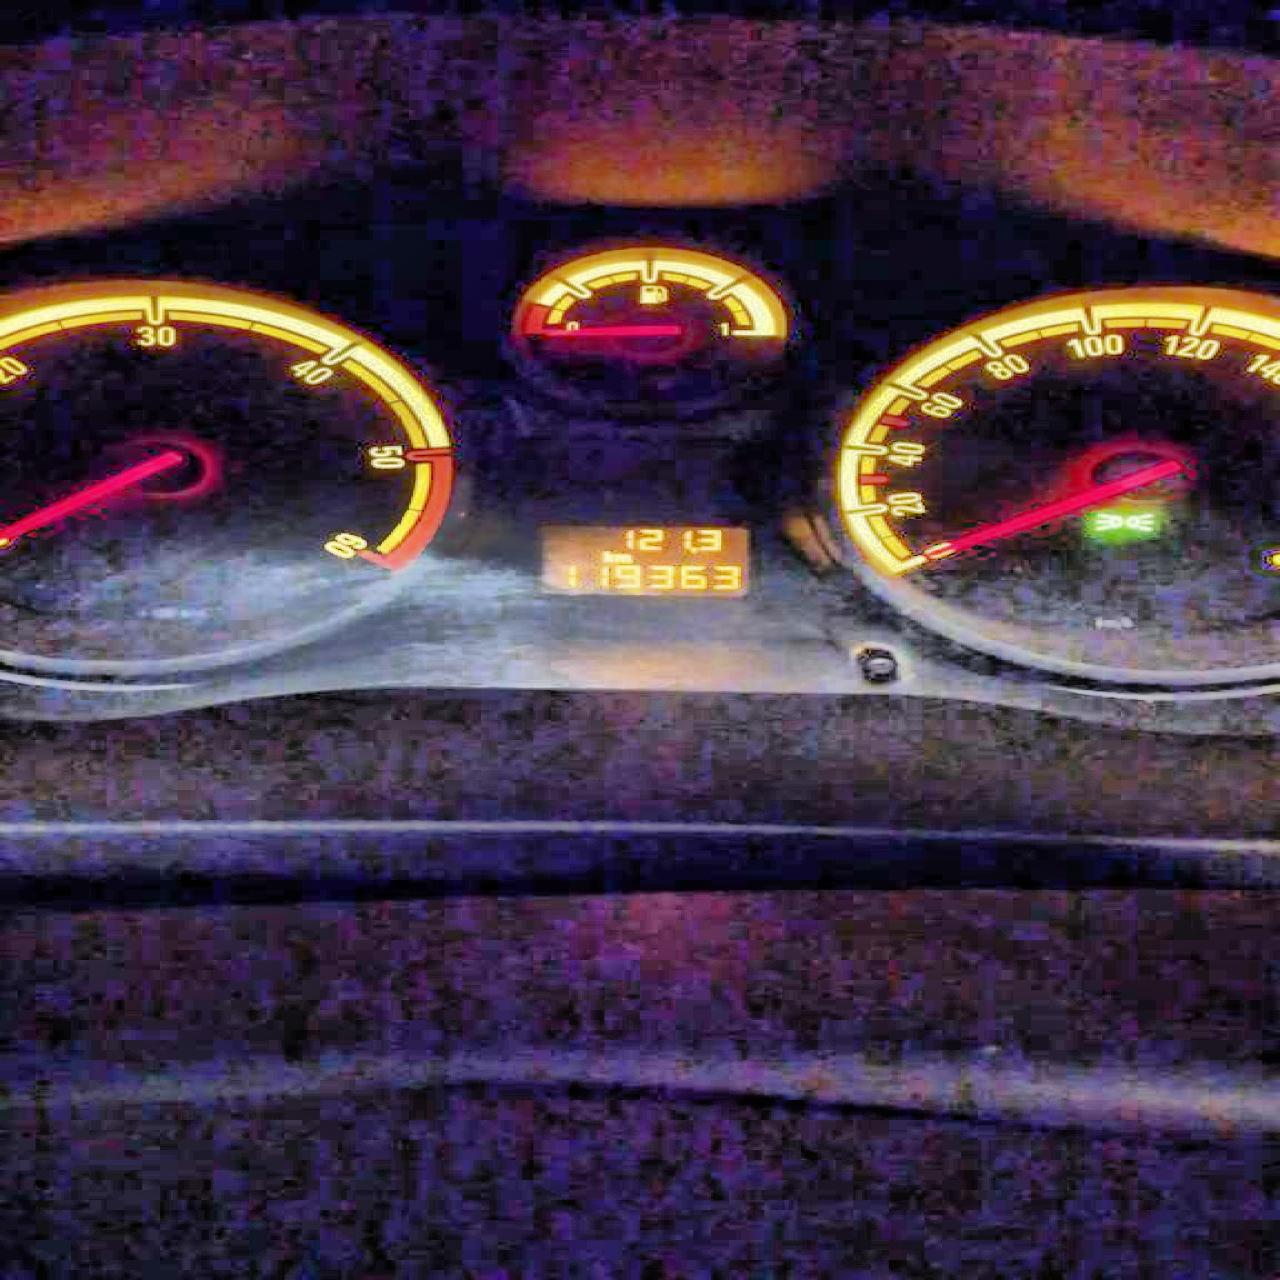-: (689, 544, 695, 554)
1: (563, 563, 578, 587), (595, 564, 608, 586), (622, 527, 635, 549), (680, 527, 692, 547)
2: (638, 527, 662, 551)
3: (712, 563, 740, 590), (647, 564, 672, 588), (696, 527, 720, 550)
6: (678, 563, 707, 588)
9: (611, 563, 640, 587)
X: (613, 552, 631, 563), (600, 549, 613, 563)
odometer: (536, 523, 751, 599)
